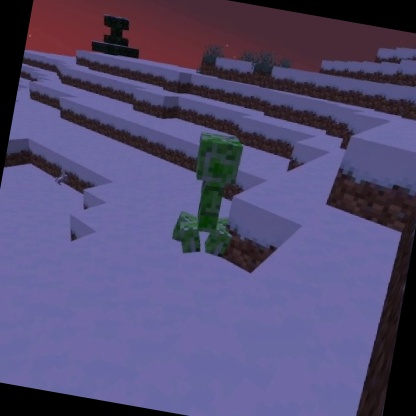creeper: (165, 125, 253, 264)
